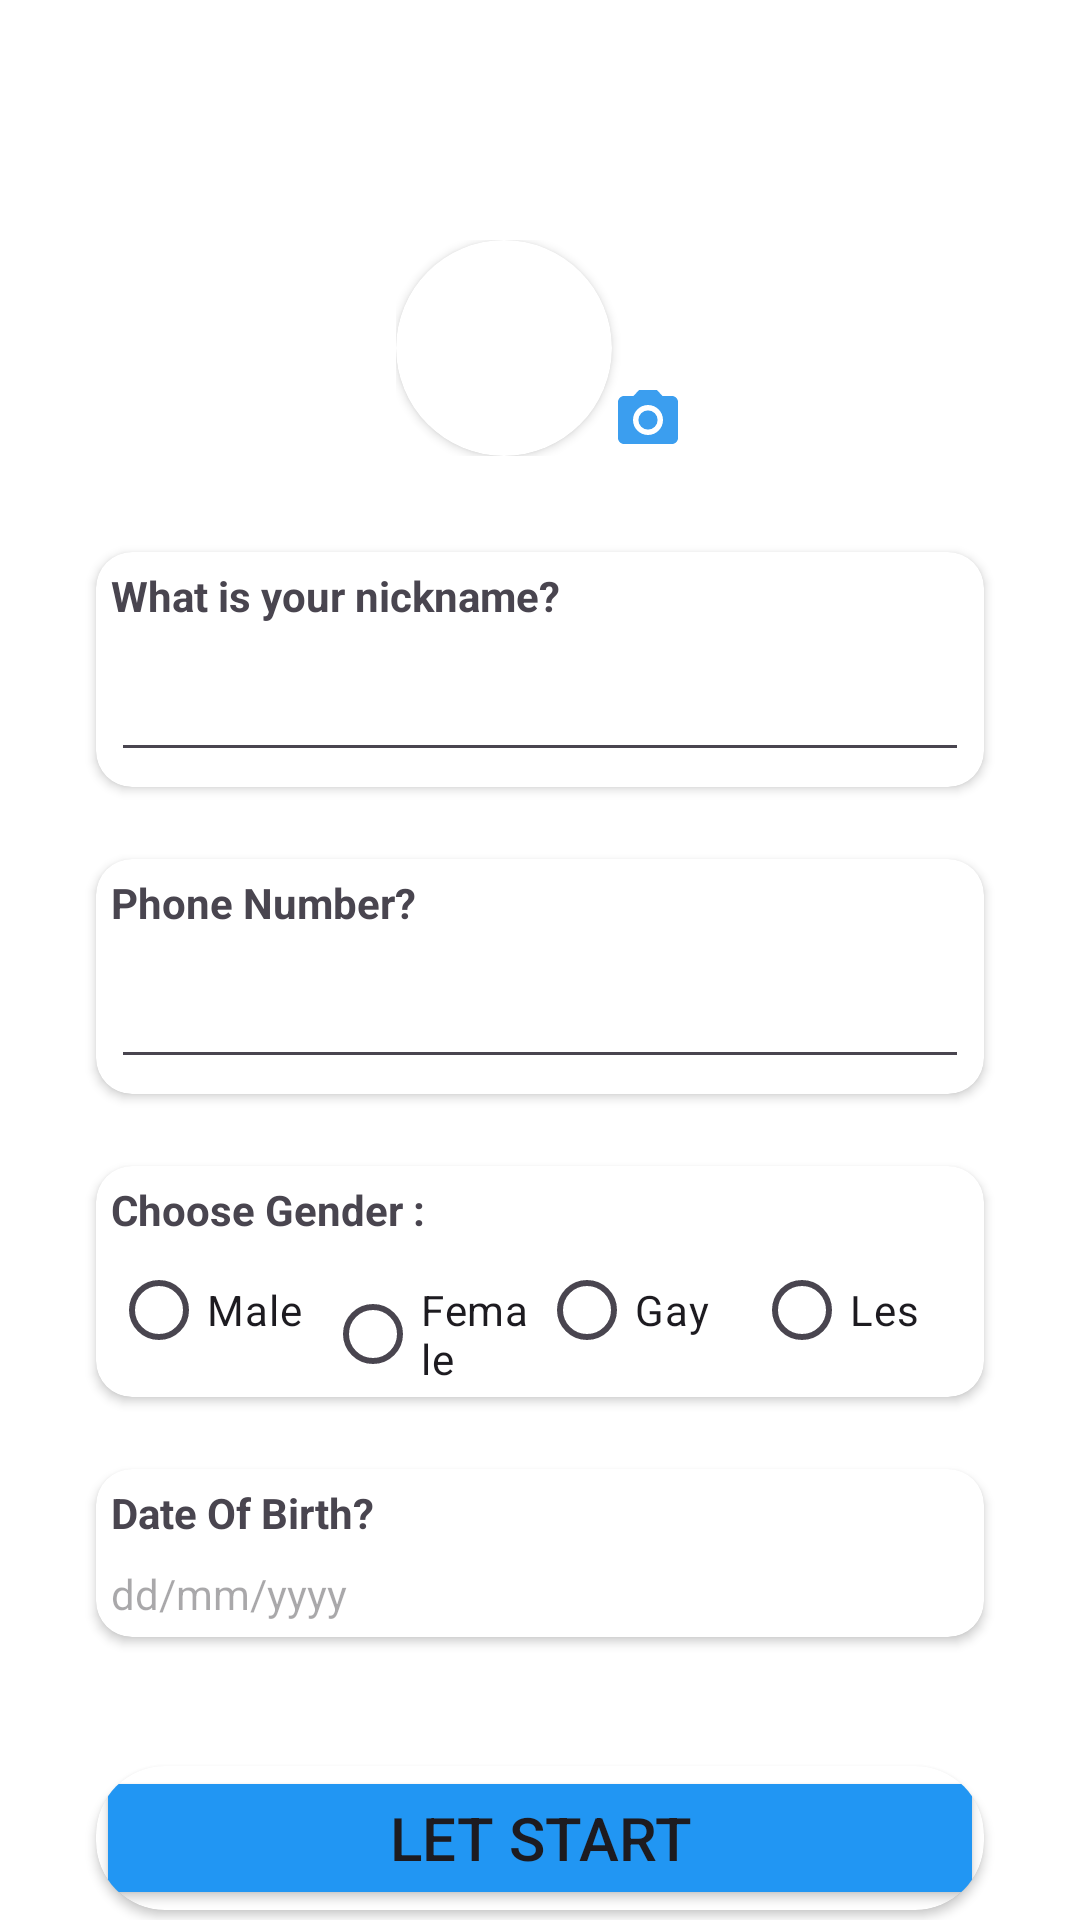

Screen size 1080x1920. Icon name, then its center in pixels as point (x, y):
camera: point (648, 417)
